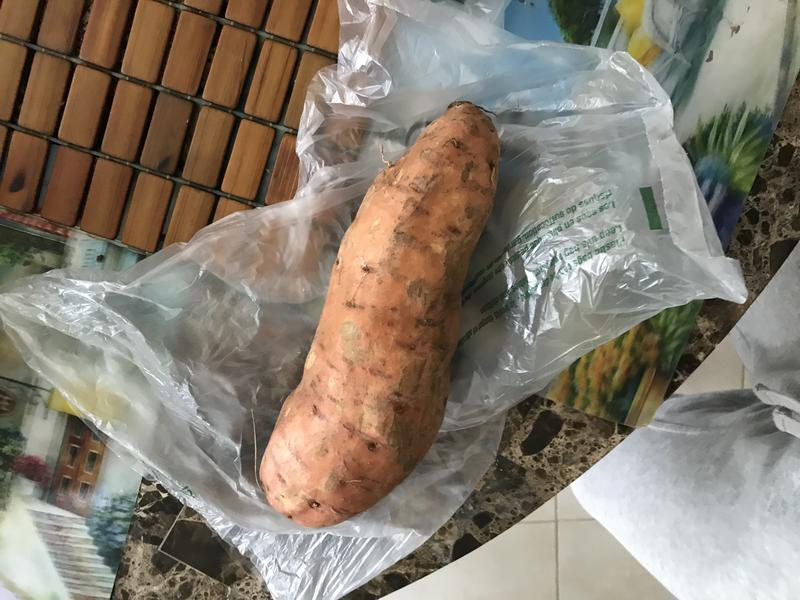sweet_potato: (233, 85, 508, 534)
